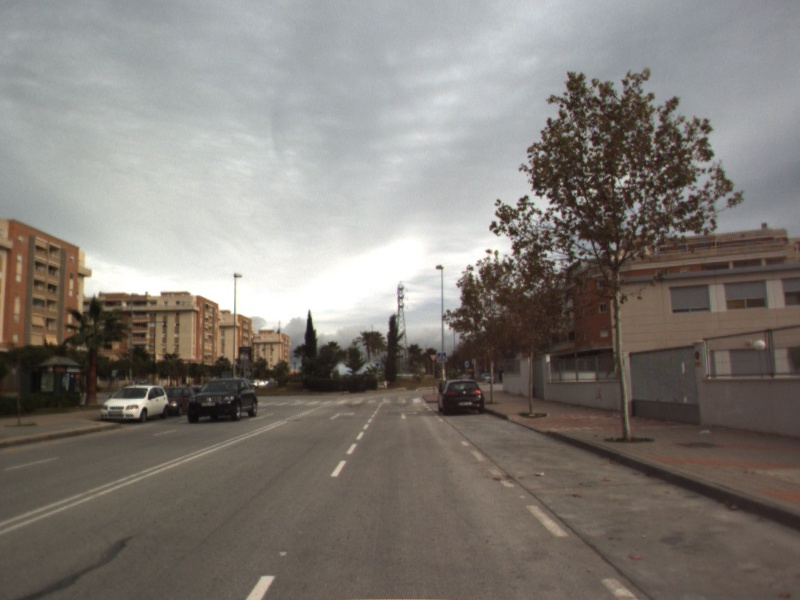RIGHT: (328, 409, 358, 422), (398, 409, 420, 421)
